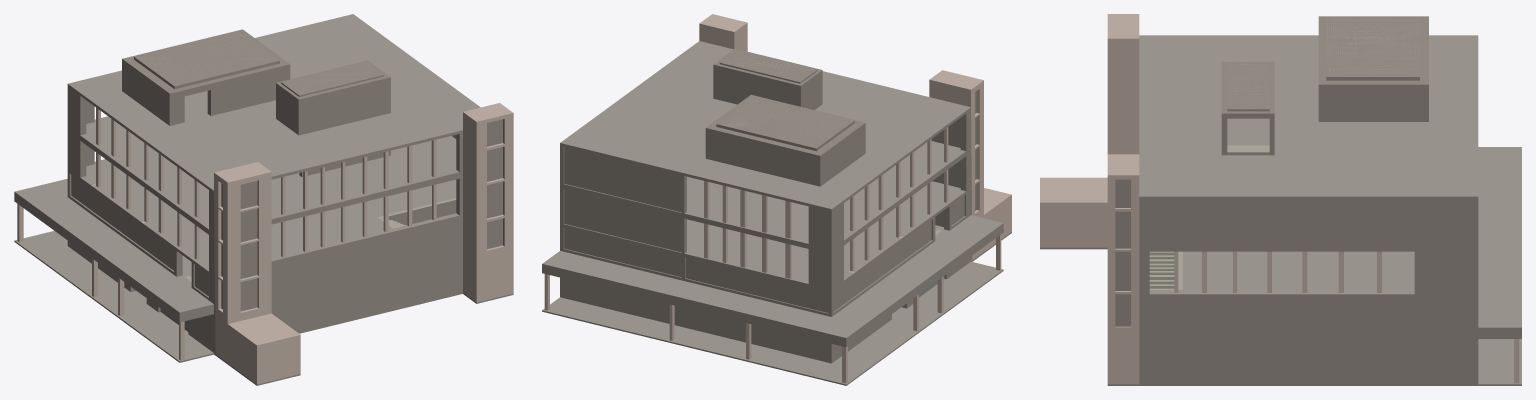
File: warehouse.dae
The picture shows the model from 3 angles, left to right: view 1: azimuth 30°, elevation 25°; view 2: azimuth 150°, elevation 25°; view 3: azimuth 270°, elevation 25°; orthographic projection. The views are drawn at different scales.
Visible parts, largest first — view 1: SketchUp (×24); view 2: SketchUp (×17); view 3: SketchUp (×20).
Boxes of the visible parts, x1,y1,x2,y2 form: SketchUp (×24): [14, 14, 513, 385]; SketchUp (×17): [542, 14, 1011, 385]; SketchUp (×20): [1040, 14, 1521, 385].
Bounding box in the file's own units: 1841 × 2074 × 1105.
